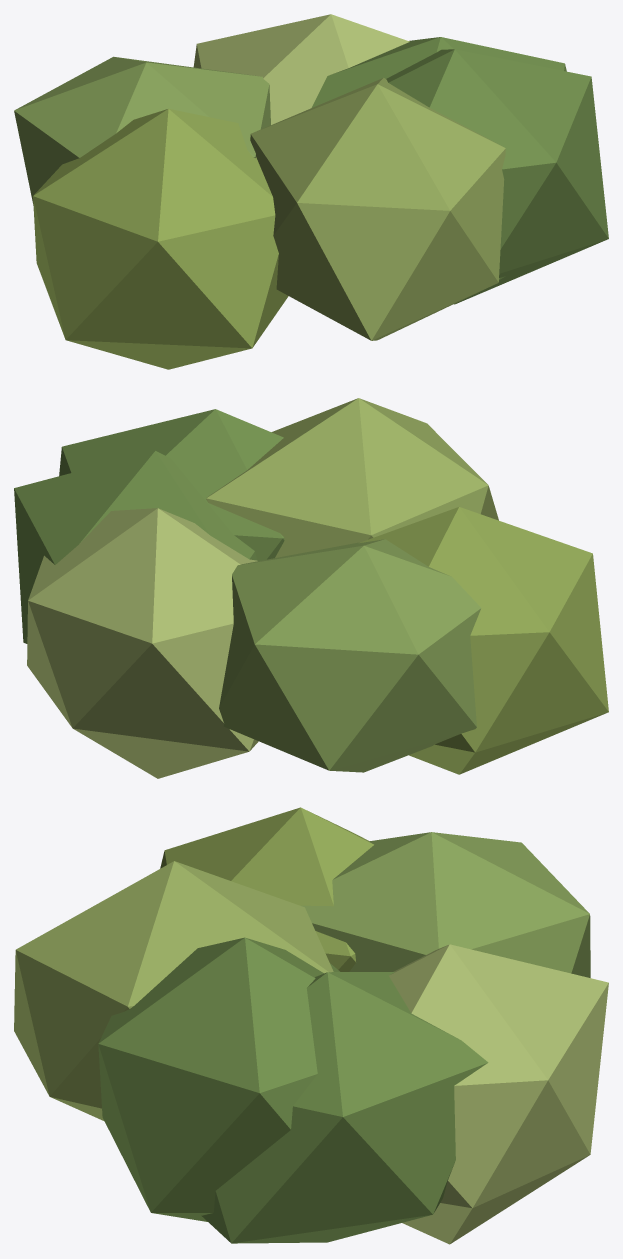
Rendered from ENV_Monza_Shrub_01.glb.
3 renders of one model, top to bottom at view 1: azimuth 30°, elevation 25°; view 2: azimuth 150°, elevation 25°; view 3: azimuth 270°, elevation 25°, orthographic. The views are drawn at different scales.
Visible parts, largest first — view 1: ENV_Monza_Shrub_01; view 2: ENV_Monza_Shrub_01; view 3: ENV_Monza_Shrub_01.
Part boxes in pixels (bbox=[...]): ENV_Monza_Shrub_01: bbox=[14, 14, 608, 369]; ENV_Monza_Shrub_01: bbox=[14, 398, 608, 778]; ENV_Monza_Shrub_01: bbox=[14, 807, 608, 1244].
Bounding box in the file's own units: 4.15 × 2.21 × 3.48.
